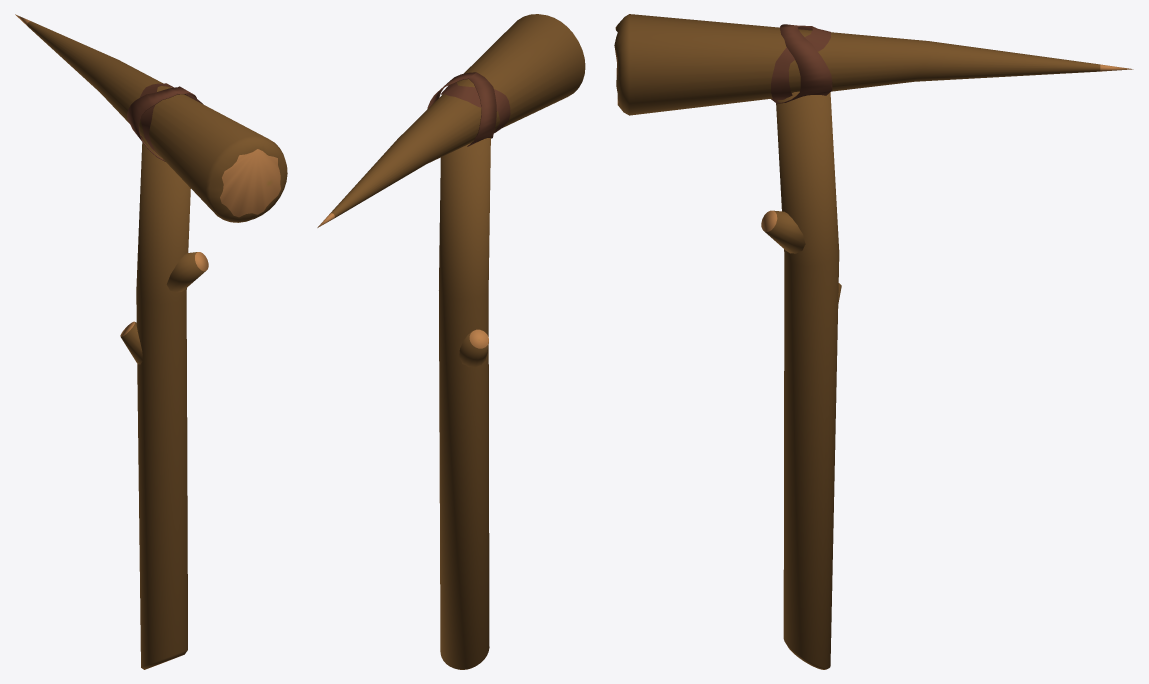
Rendered from Pickaxe.fbx.
The picture shows the model from 3 angles, left to right: view 1: azimuth 30°, elevation 25°; view 2: azimuth 150°, elevation 25°; view 3: azimuth 270°, elevation 25°; orthographic projection. The views are drawn at different scales.
Visible parts, largest first — view 1: Cylinder, Cone, Cylinder.001, Circle.001, Circle, Cylinder.002; view 2: Cylinder, Cone, Circle.001, Circle, Cylinder.002; view 3: Cylinder, Cone, Circle.001, Circle, Cylinder.001.
Boxes of the visible parts, x1,y1,x2,y2 form: Cylinder: [136, 137, 190, 669]; Cone: [15, 14, 287, 222]; Cylinder.001: [166, 252, 208, 292]; Circle.001: [127, 86, 196, 161]; Circle: [139, 83, 203, 156]; Cylinder.002: [120, 321, 142, 364]; Cylinder: [439, 138, 490, 669]; Cone: [317, 14, 585, 227]; Circle.001: [427, 72, 496, 146]; Circle: [441, 82, 510, 133]; Cylinder.002: [459, 329, 488, 367]; Cylinder: [776, 91, 839, 669]; Cone: [614, 14, 1133, 115]; Circle.001: [771, 24, 832, 103]; Circle: [771, 27, 830, 100]; Cylinder.001: [761, 210, 805, 253].
Bounding box in the file's own units: 188 × 1321 × 960.
Materials: 2 (1 with a texture image).
